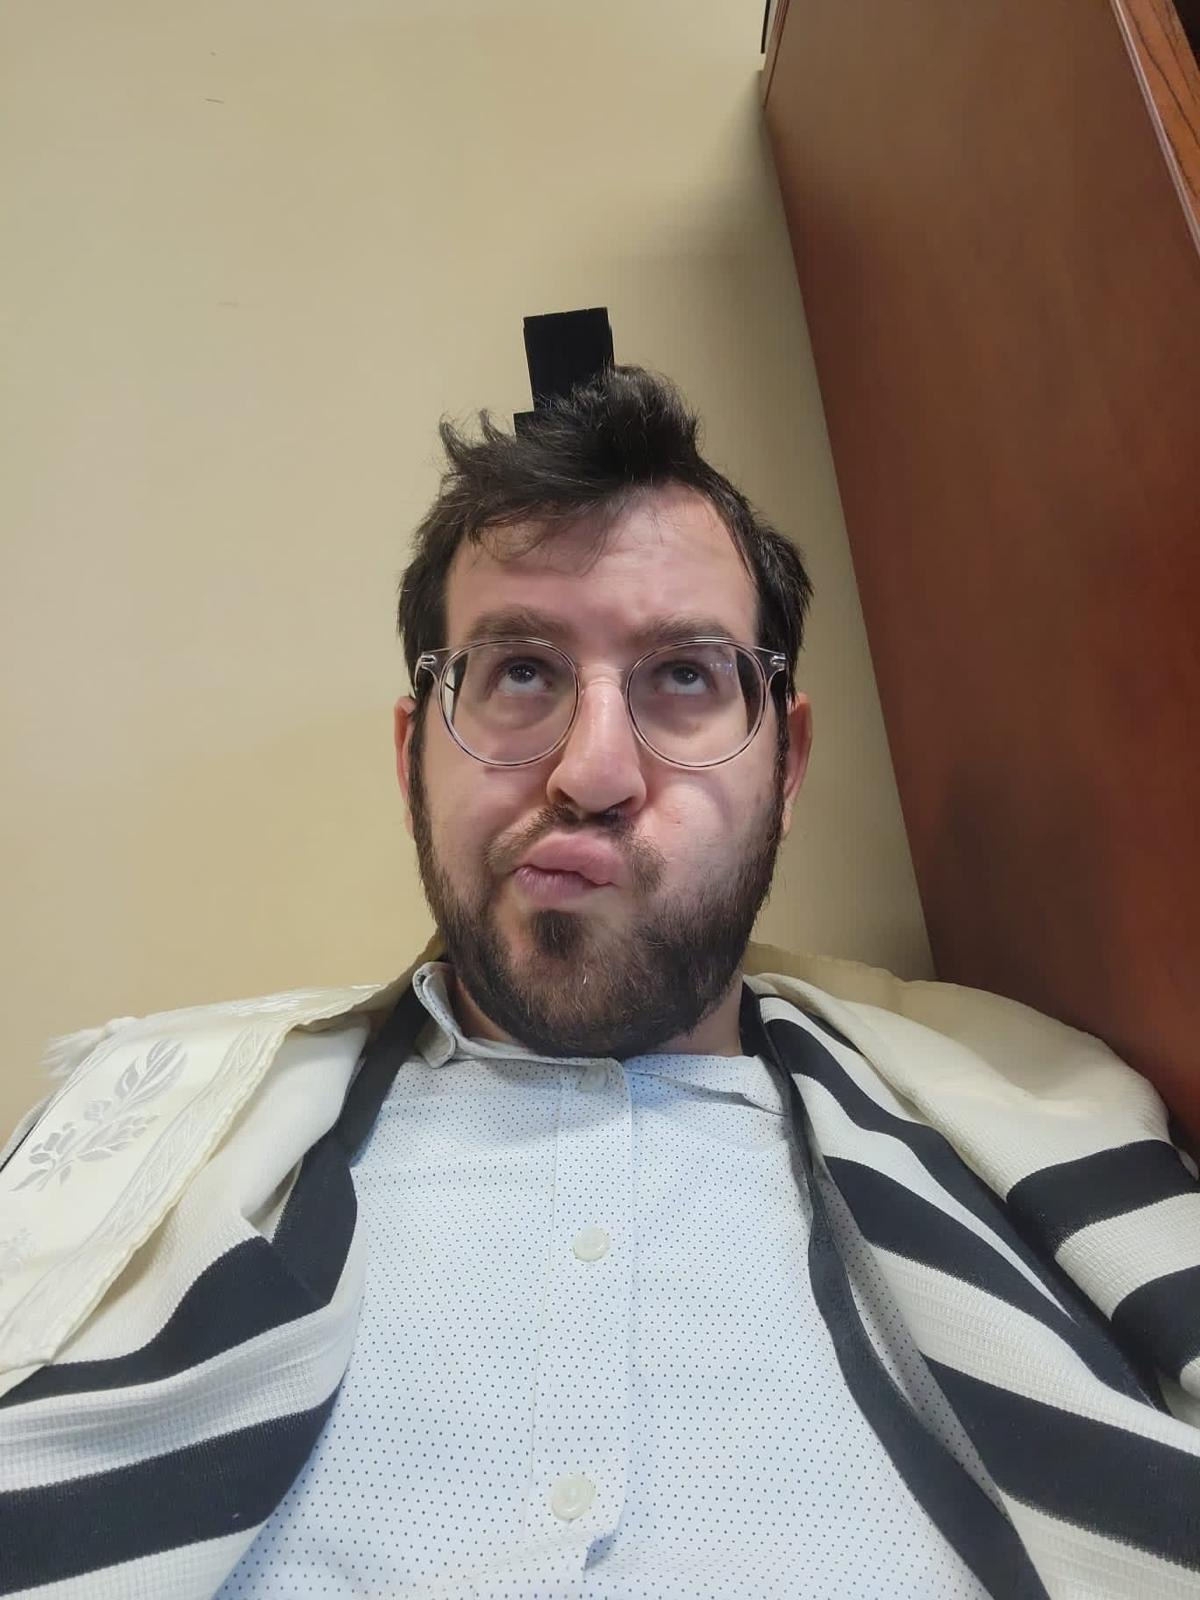tefillin: (508, 309, 624, 437)
